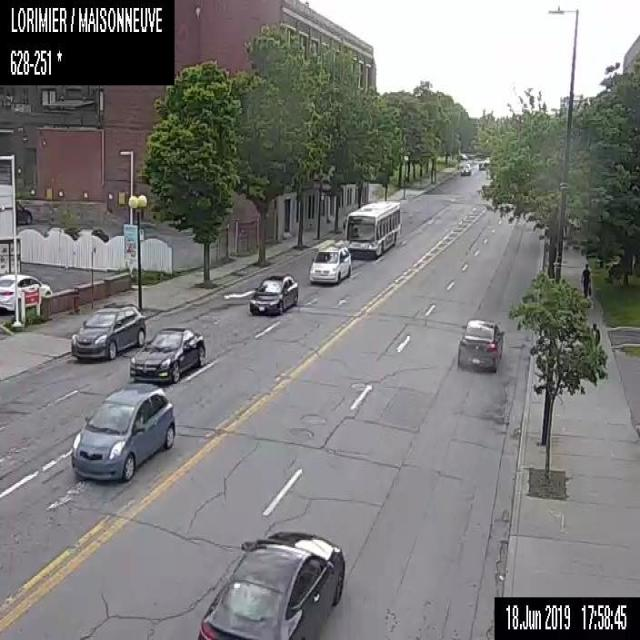bus: (342, 199, 400, 258)
pedestrian: (580, 261, 590, 295)
vehicle: (196, 528, 346, 639), (70, 381, 174, 481), (70, 301, 145, 360), (130, 326, 205, 384), (455, 317, 503, 371), (248, 271, 297, 316), (0, 272, 51, 312), (308, 245, 350, 282), (14, 201, 31, 224), (460, 163, 471, 175), (478, 162, 484, 170)
